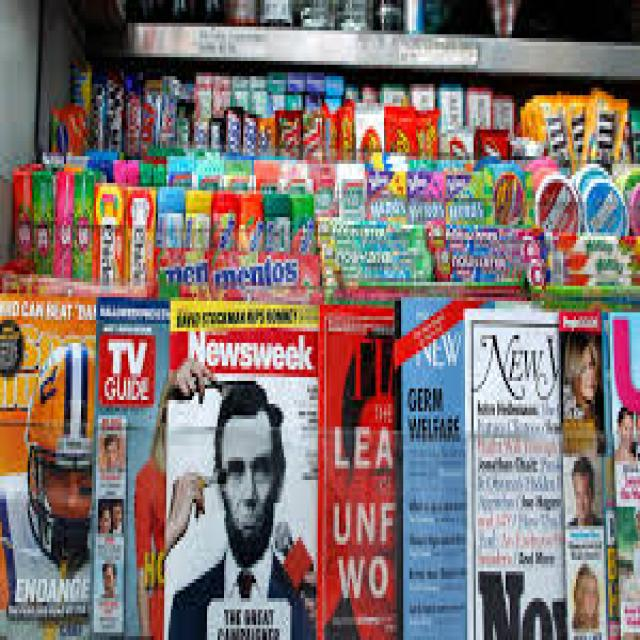paper: (0, 292, 640, 640)
